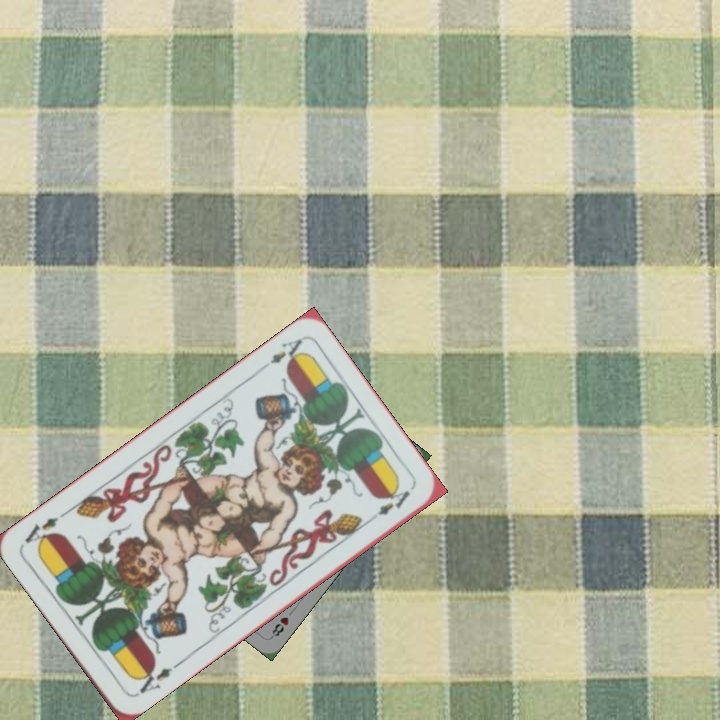EA: (254, 335, 307, 375), (131, 661, 175, 697)
H8: (267, 613, 292, 641)
